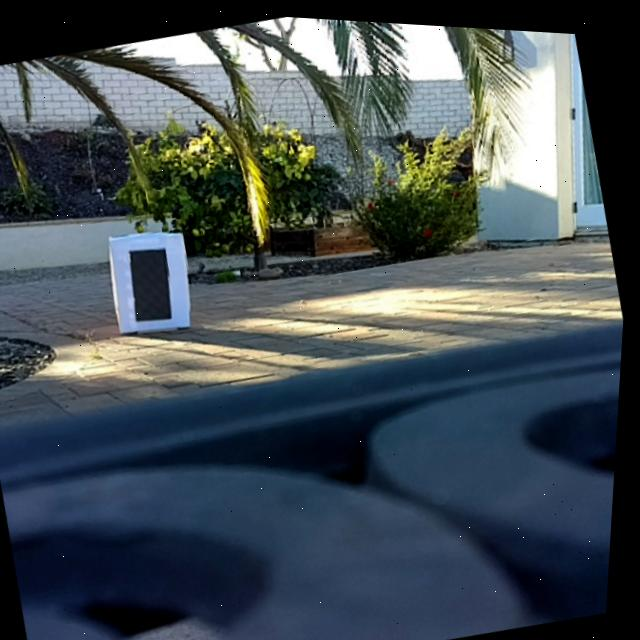led: (126, 241, 183, 324)
